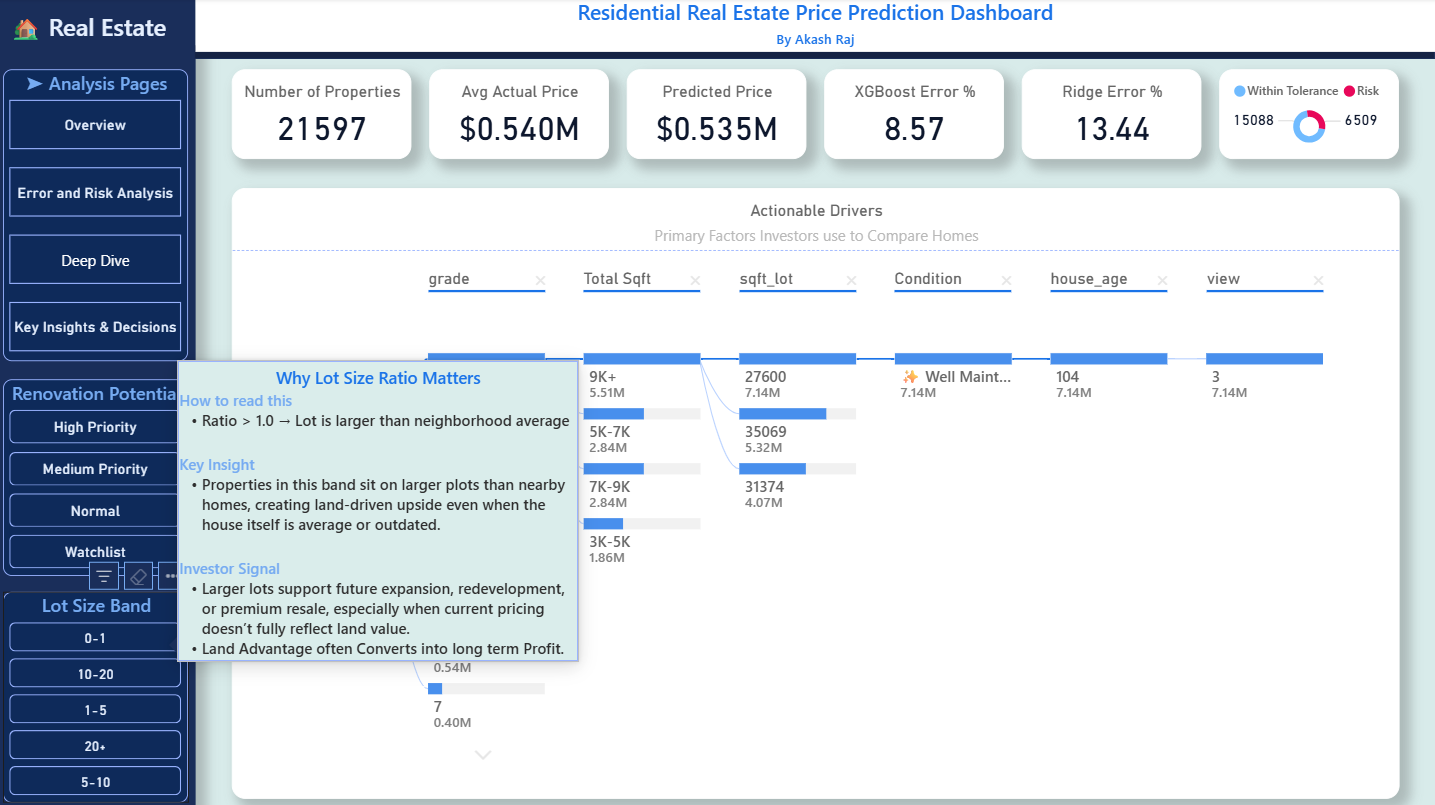

The dashboard page shown, as its layout file describes it:
{"tool":"tableau","page":{"name":"Model Reliability & Pricing Confidence","canvas":[1000,1000],"units":"permille","ordinal":1},"visuals":[{"type":"worksheet","title":"Ex-Back","mark":"Automatic","box":[0,0,1000,1000]},{"type":"text","box":[47.4,27.8,902.3,47.2]},{"type":"dashboard-object","box":[54.1,33.3,109.8,38.9]},{"type":"filter","title":"Actual vs Predicted — XGBoost","param":"[federated.0pb6tqq0hun84y1cwjt1z028dbxy].[none:actual_price:qk]","box":[674.4,175,91,98.6]},{"type":"filter","title":"Actual vs Predicted — XGBoost","param":"[federated.0pb6tqq0hun84y1cwjt1z028dbxy].[none:grade:qk]","box":[766.9,175,91,98.6]},{"type":"filter","title":"Ex-Back","param":"[federated.0pb6tqq0hun84y1cwjt1z028dbxy].[none:house_age:qk]","box":[859.4,175,91,98.6]},{"type":"worksheet","title":"KPI Tiles","mark":"Automatic","box":[49.6,176.4,581.2,98.6]},{"type":"blank","box":[166.9,176.4,2.3,97.2]},{"type":"blank","box":[281.9,176.4,2.3,97.2]},{"type":"blank","box":[397,176.4,2.3,97.2]},{"type":"blank","box":[512,176.4,2.3,97.2]},{"type":"worksheet","title":"Actual vs Predicted — XGBoost","mark":"Automatic","rows":["actual_price"],"cols":["xgb_pred_price"],"box":[43.6,419.4,281.2,481.9]},{"type":"worksheet","title":"Actual vs Predicted — Ridge","mark":"Automatic","rows":["actual_price"],"cols":["ridge_pred_price"],"box":[357.1,419.4,279.7,481.9]},{"type":"worksheet","title":"Total Sqft vs Predicted Price","mark":"Bar","rows":["Calculation_0555552130994176"],"cols":["xgb_pred_price"],"box":[671.4,419.4,280.4,481.9]},{"type":"text","box":[214.3,438.9,85.7,41.7]},{"type":"legend","title":"Total Sqft vs Predicted Price","param":"[federated.0pb6tqq0hun84y1cwjt1z028dbxy].[none:Calculation_0458520059084800:nk]","box":[209,833.3,112.8,58.3]}]}

Visuals, with their boxes on the dashboard's canvas, which has no fixed pixel size, in thousandths of its width and height (x1, y1, x2, y2). These are canvas units, not pixel positions in the 1435x805 screenshot, which may show the page scaled, cropped or inside an application window:
"Ex-Back" worksheet: <bbox>0, 0, 1000, 1000</bbox>
text: <bbox>47, 28, 950, 75</bbox>
dashboard-object: <bbox>54, 33, 164, 72</bbox>
"Actual vs Predicted — XGBoost" filter: <bbox>674, 175, 765, 274</bbox>
"Actual vs Predicted — XGBoost" filter: <bbox>767, 175, 858, 274</bbox>
"Ex-Back" filter: <bbox>859, 175, 950, 274</bbox>
"KPI Tiles" worksheet: <bbox>50, 176, 631, 275</bbox>
blank: <bbox>167, 176, 169, 274</bbox>
blank: <bbox>282, 176, 284, 274</bbox>
blank: <bbox>397, 176, 399, 274</bbox>
blank: <bbox>512, 176, 514, 274</bbox>
"Actual vs Predicted — XGBoost" worksheet: <bbox>44, 419, 325, 901</bbox>
"Actual vs Predicted — Ridge" worksheet: <bbox>357, 419, 637, 901</bbox>
"Total Sqft vs Predicted Price" worksheet (Bar marks): <bbox>671, 419, 952, 901</bbox>
text: <bbox>214, 439, 300, 481</bbox>
"Total Sqft vs Predicted Price" legend: <bbox>209, 833, 322, 892</bbox>
